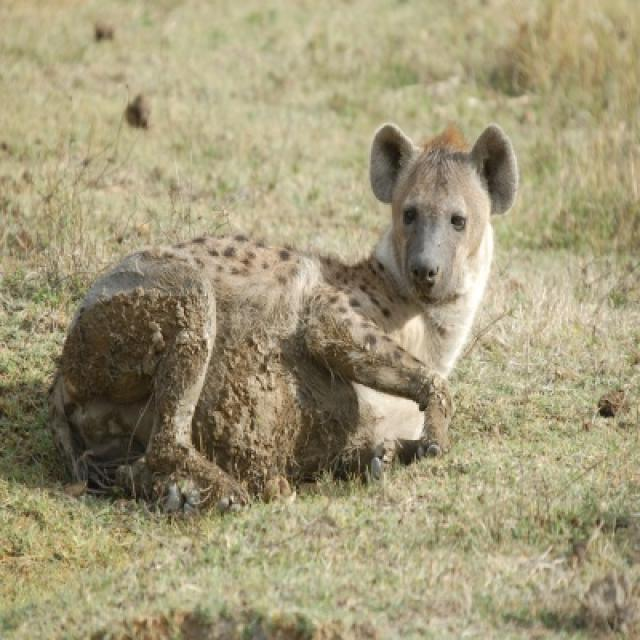hyena: (51, 125, 517, 509)
